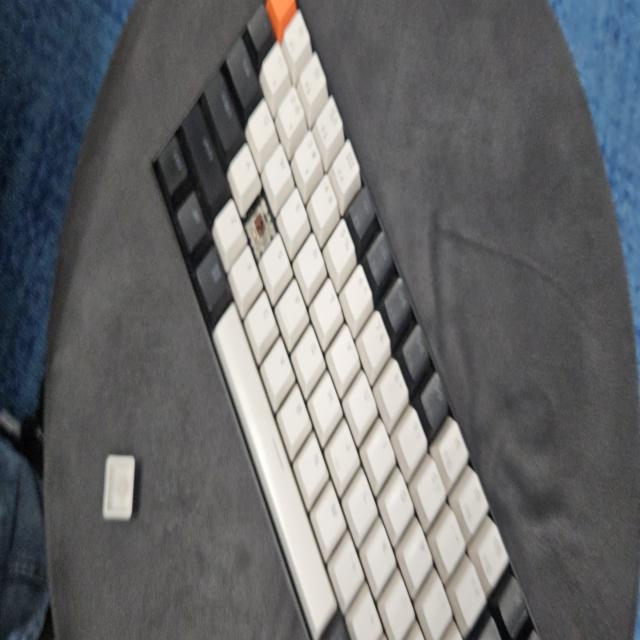C: (250, 210, 270, 245)
